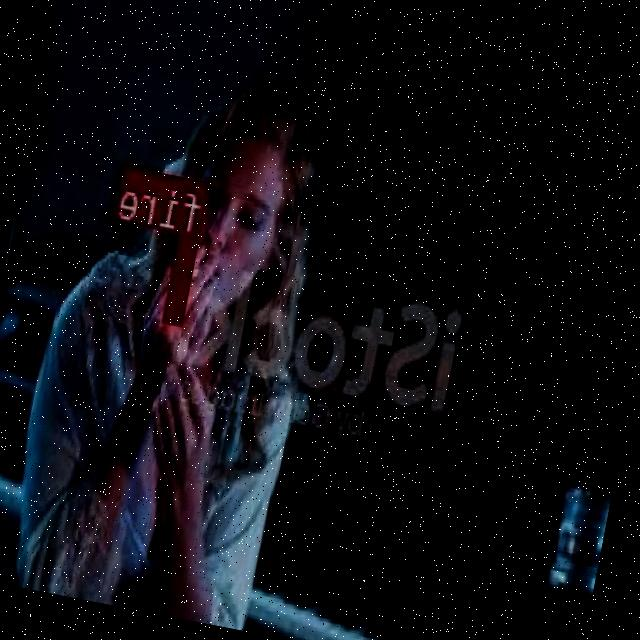fire: (168, 232, 202, 322)
